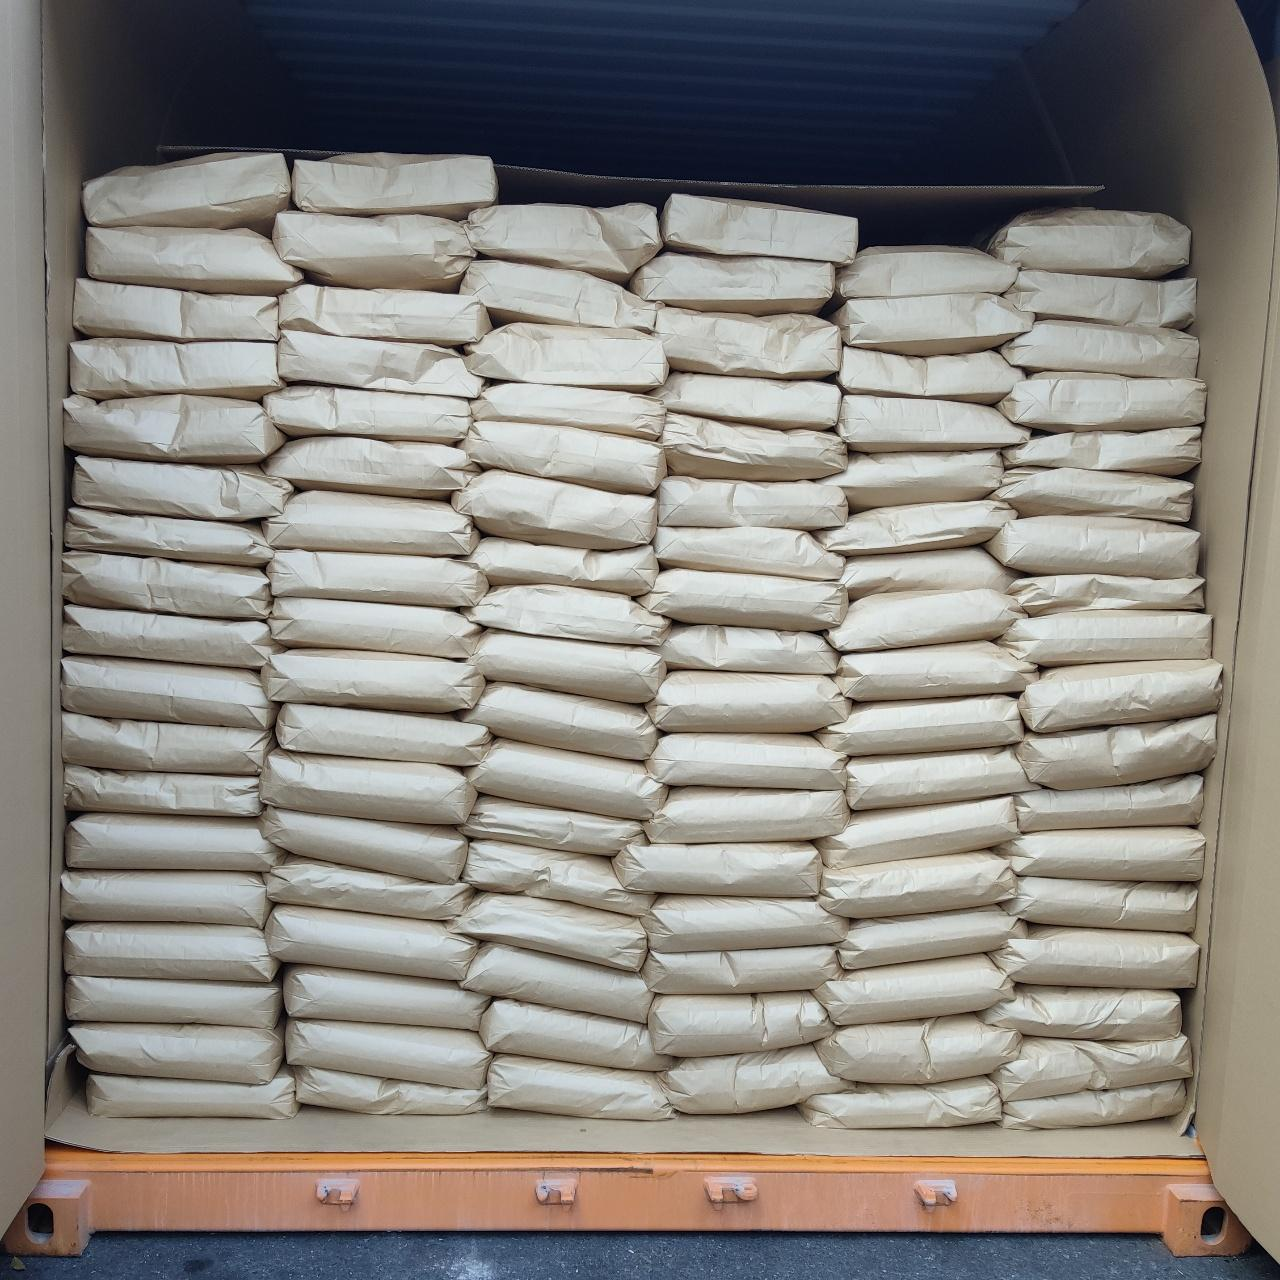sack: (466, 738, 667, 819), (451, 470, 656, 549), (261, 748, 476, 823), (273, 211, 474, 291), (266, 905, 475, 980), (62, 657, 274, 729), (449, 893, 647, 970), (64, 395, 284, 464), (85, 152, 290, 226), (262, 806, 467, 880), (466, 204, 662, 281), (462, 943, 653, 1022), (461, 420, 666, 493), (1015, 716, 1216, 790), (87, 226, 302, 295), (1020, 659, 1221, 732), (461, 684, 658, 758), (286, 1018, 491, 1089), (72, 456, 292, 521), (812, 954, 1013, 1025), (816, 1014, 1019, 1084), (62, 551, 269, 619), (262, 491, 478, 556), (465, 323, 668, 392), (990, 208, 1190, 278), (460, 260, 654, 332), (471, 630, 665, 702), (819, 797, 1018, 867), (463, 841, 651, 915), (261, 650, 484, 712), (661, 194, 857, 264), (63, 605, 274, 670), (480, 999, 670, 1071), (278, 330, 479, 398), (292, 153, 496, 219), (276, 703, 491, 765), (656, 307, 841, 379), (285, 965, 489, 1030), (985, 516, 1198, 578), (629, 250, 835, 314), (265, 857, 473, 920), (262, 437, 478, 497), (639, 569, 848, 631), (63, 713, 271, 775), (990, 926, 1198, 988), (72, 279, 278, 341), (268, 598, 480, 658), (70, 1023, 282, 1083), (820, 852, 1015, 917), (279, 284, 490, 344), (661, 1045, 847, 1113), (71, 338, 281, 398), (662, 412, 847, 480), (65, 923, 278, 982), (998, 372, 1206, 432), (817, 695, 1023, 755), (647, 671, 849, 732), (829, 589, 1024, 652), (648, 991, 833, 1057), (267, 552, 488, 607), (998, 1038, 1190, 1101), (65, 507, 273, 565), (846, 747, 1037, 810), (488, 1054, 670, 1120), (66, 814, 276, 871), (264, 385, 470, 443), (832, 294, 1031, 354), (998, 610, 1211, 666), (836, 641, 1037, 700), (468, 586, 668, 645), (62, 870, 268, 927), (642, 895, 847, 952), (838, 906, 1025, 968), (645, 733, 846, 790), (1001, 320, 1198, 378), (612, 843, 822, 897), (643, 787, 849, 842), (66, 976, 282, 1028), (837, 394, 1029, 452), (467, 537, 658, 595), (471, 383, 665, 440), (988, 467, 1192, 521), (823, 451, 1003, 512), (1006, 270, 1195, 328), (982, 985, 1181, 1040), (649, 373, 841, 430), (998, 827, 1204, 880), (837, 346, 1025, 404), (1014, 774, 1202, 832), (89, 1067, 298, 1119), (463, 796, 644, 856), (819, 500, 1015, 555), (1000, 877, 1195, 932), (799, 1076, 1000, 1127), (658, 476, 847, 530), (655, 527, 844, 580), (640, 945, 838, 994), (1003, 426, 1200, 475), (291, 1066, 487, 1115), (65, 767, 260, 816), (838, 246, 1017, 299), (840, 547, 1017, 600), (1001, 1080, 1187, 1127), (661, 625, 838, 674), (1007, 574, 1203, 615)
